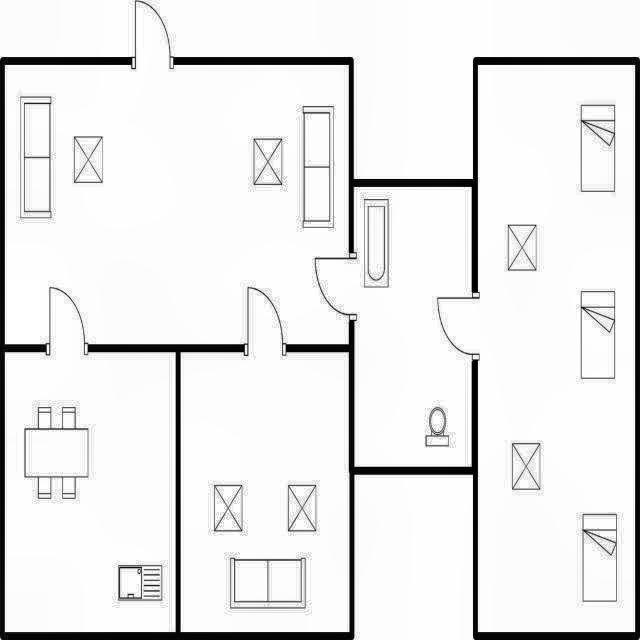room: (5, 65, 349, 345), (478, 65, 635, 632), (5, 352, 176, 632), (180, 352, 350, 632), (354, 187, 472, 467)
